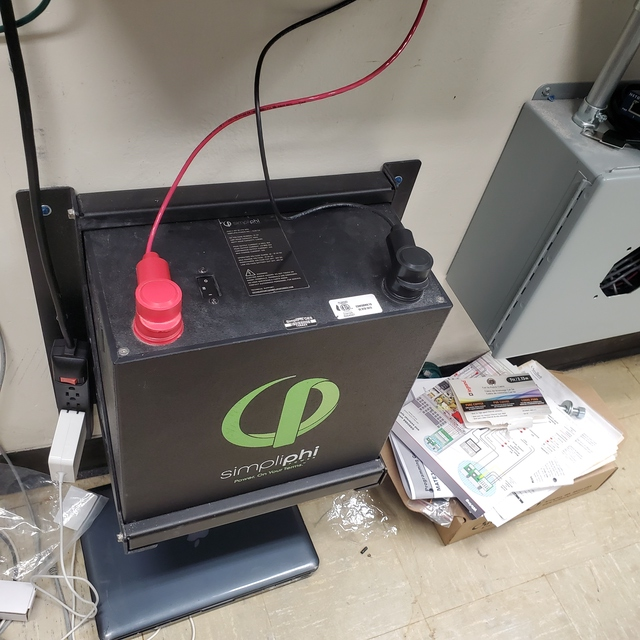battery: (63, 185, 455, 557)
